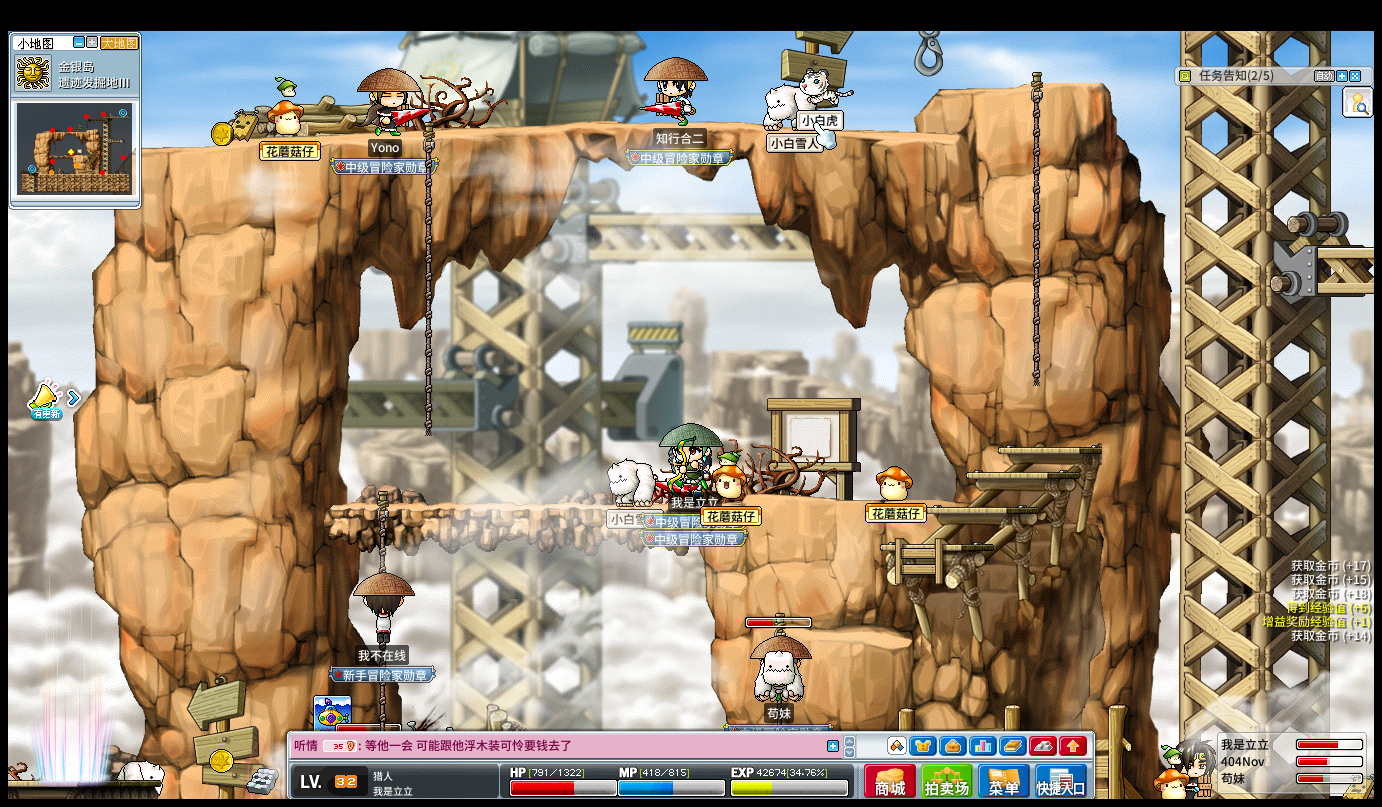floor: (152, 117, 971, 149), (323, 498, 707, 512), (317, 503, 705, 513), (933, 79, 1114, 94), (807, 627, 912, 647), (961, 469, 1076, 481), (924, 505, 1038, 516), (998, 444, 1102, 455), (817, 496, 956, 504), (880, 542, 992, 551), (1315, 242, 1377, 257)
rope: (1029, 59, 1045, 384), (421, 115, 433, 448), (374, 491, 388, 571)
